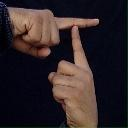hand: (47, 25, 98, 127), (6, 6, 99, 59)
